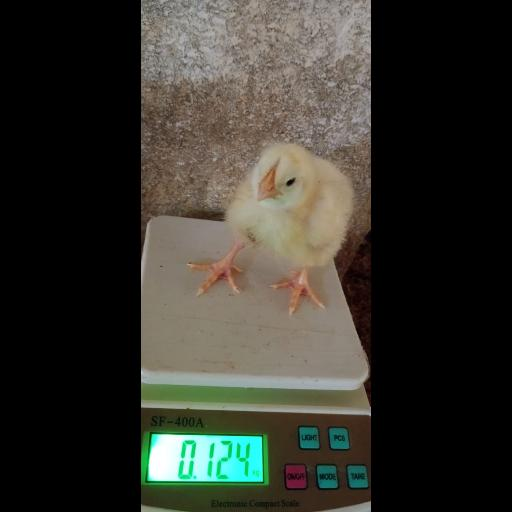chick: (187, 143, 356, 318)
